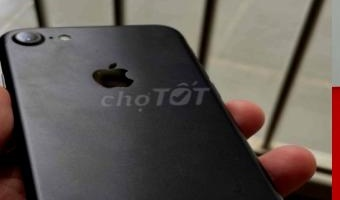scratch: (12, 24, 45, 47)
